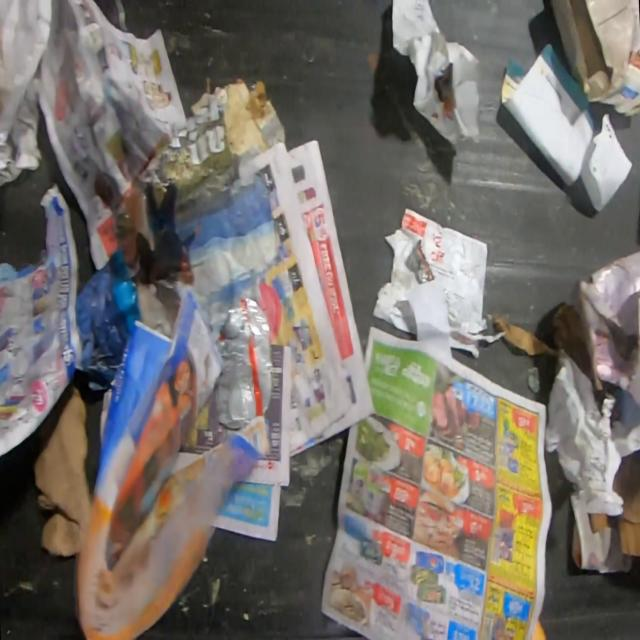cardboard: (31, 380, 94, 558), (548, 0, 640, 119), (577, 250, 640, 410), (550, 303, 593, 384), (613, 448, 640, 557), (589, 513, 610, 533)
metal: (212, 296, 274, 431)
